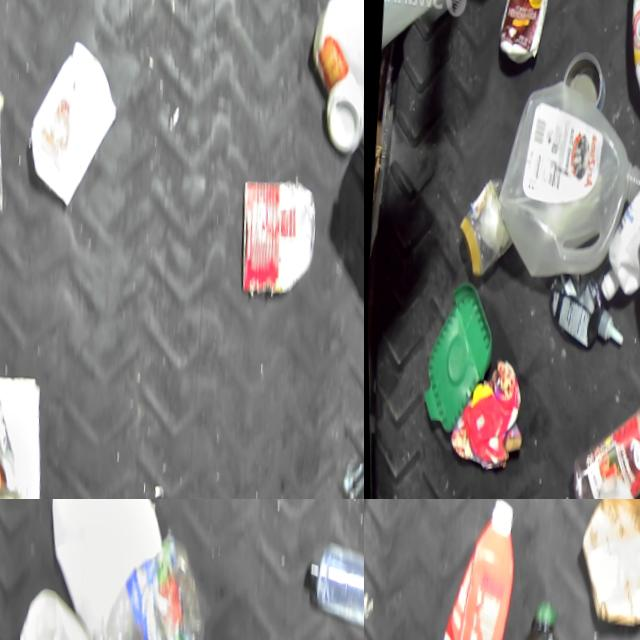can: (232, 164, 321, 301)
milk_jug: (490, 67, 640, 288), (38, 499, 160, 619), (307, 0, 364, 105)
non_white_jug: (426, 499, 517, 640), (490, 594, 578, 640)
plastic_bottle: (73, 525, 208, 640), (296, 535, 364, 636)
